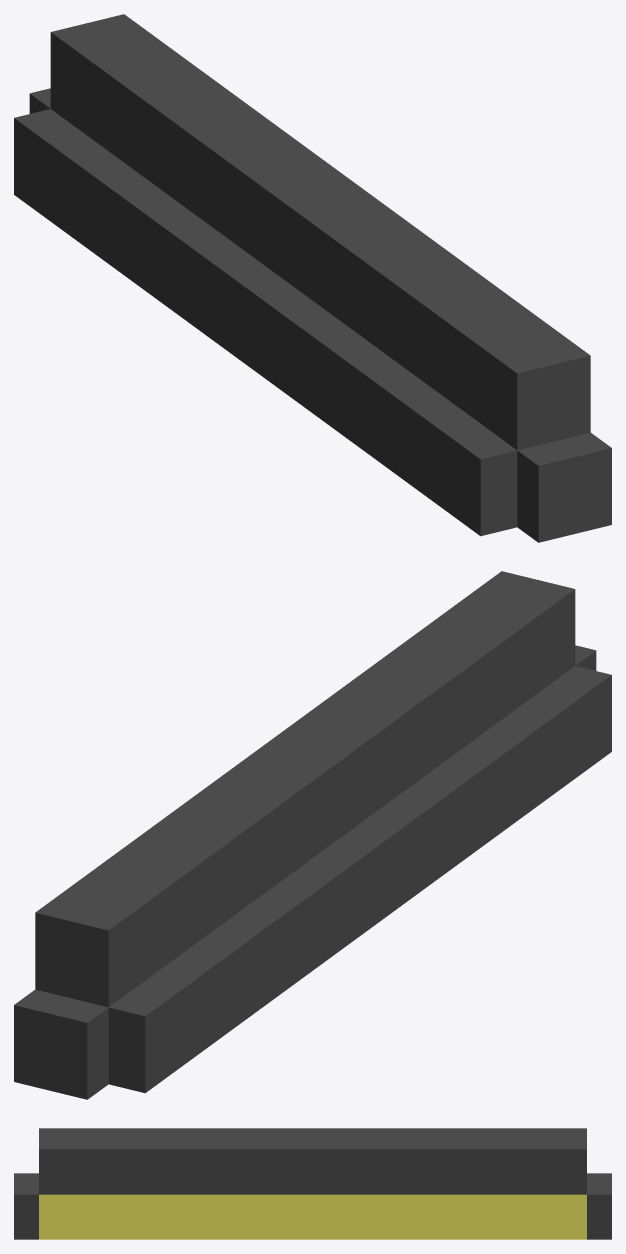
The model's file is gas station project-29.obj.
3 renders of one model, top to bottom at view 1: azimuth 30°, elevation 25°; view 2: azimuth 150°, elevation 25°; view 3: azimuth 270°, elevation 25°, orthographic. The views are drawn at different scales.
Bounding box in the file's own units: 0.3 × 0.4 × 2.4.
Materials: 1 (1 with a texture image).
